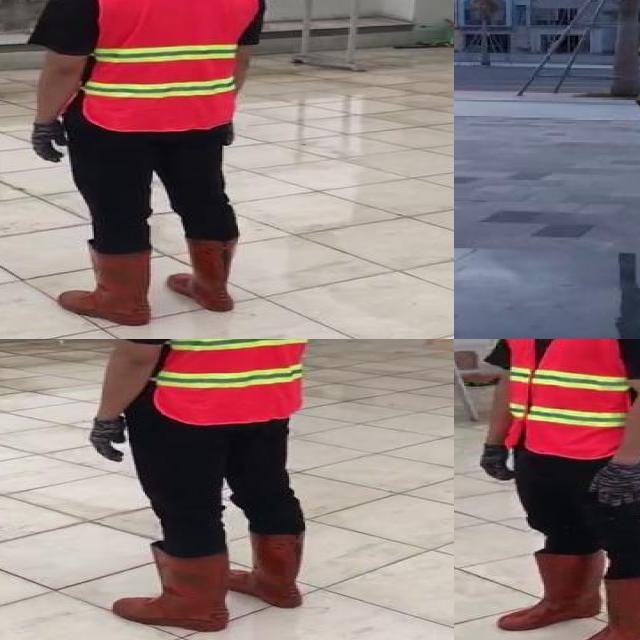boots: (117, 546, 232, 634), (496, 546, 612, 632), (55, 243, 153, 327), (220, 529, 310, 609), (165, 236, 240, 311), (571, 576, 640, 640)
hand_glove: (585, 462, 640, 509), (30, 118, 78, 163), (86, 417, 129, 464), (477, 440, 519, 480)
hand_noglove: (628, 68, 640, 123)
person: (21, 0, 275, 333), (77, 339, 331, 638), (469, 339, 640, 640)
vest: (67, 0, 264, 130), (496, 339, 640, 455), (136, 339, 324, 427)
